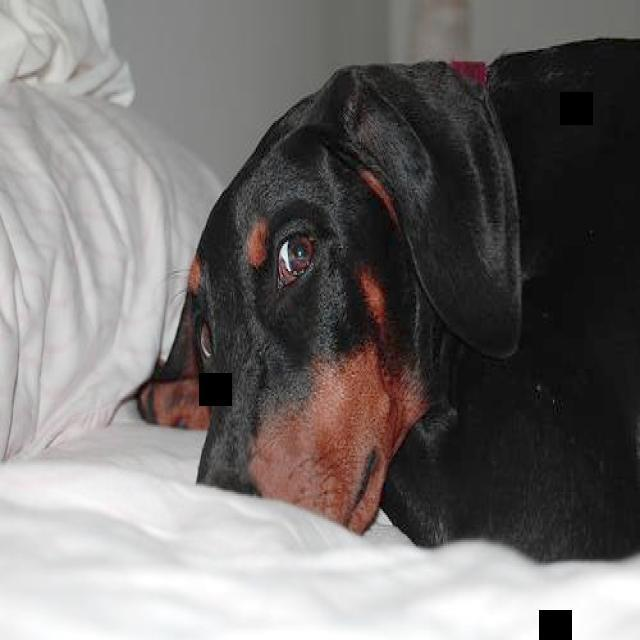adult_dog: (132, 41, 640, 562)
